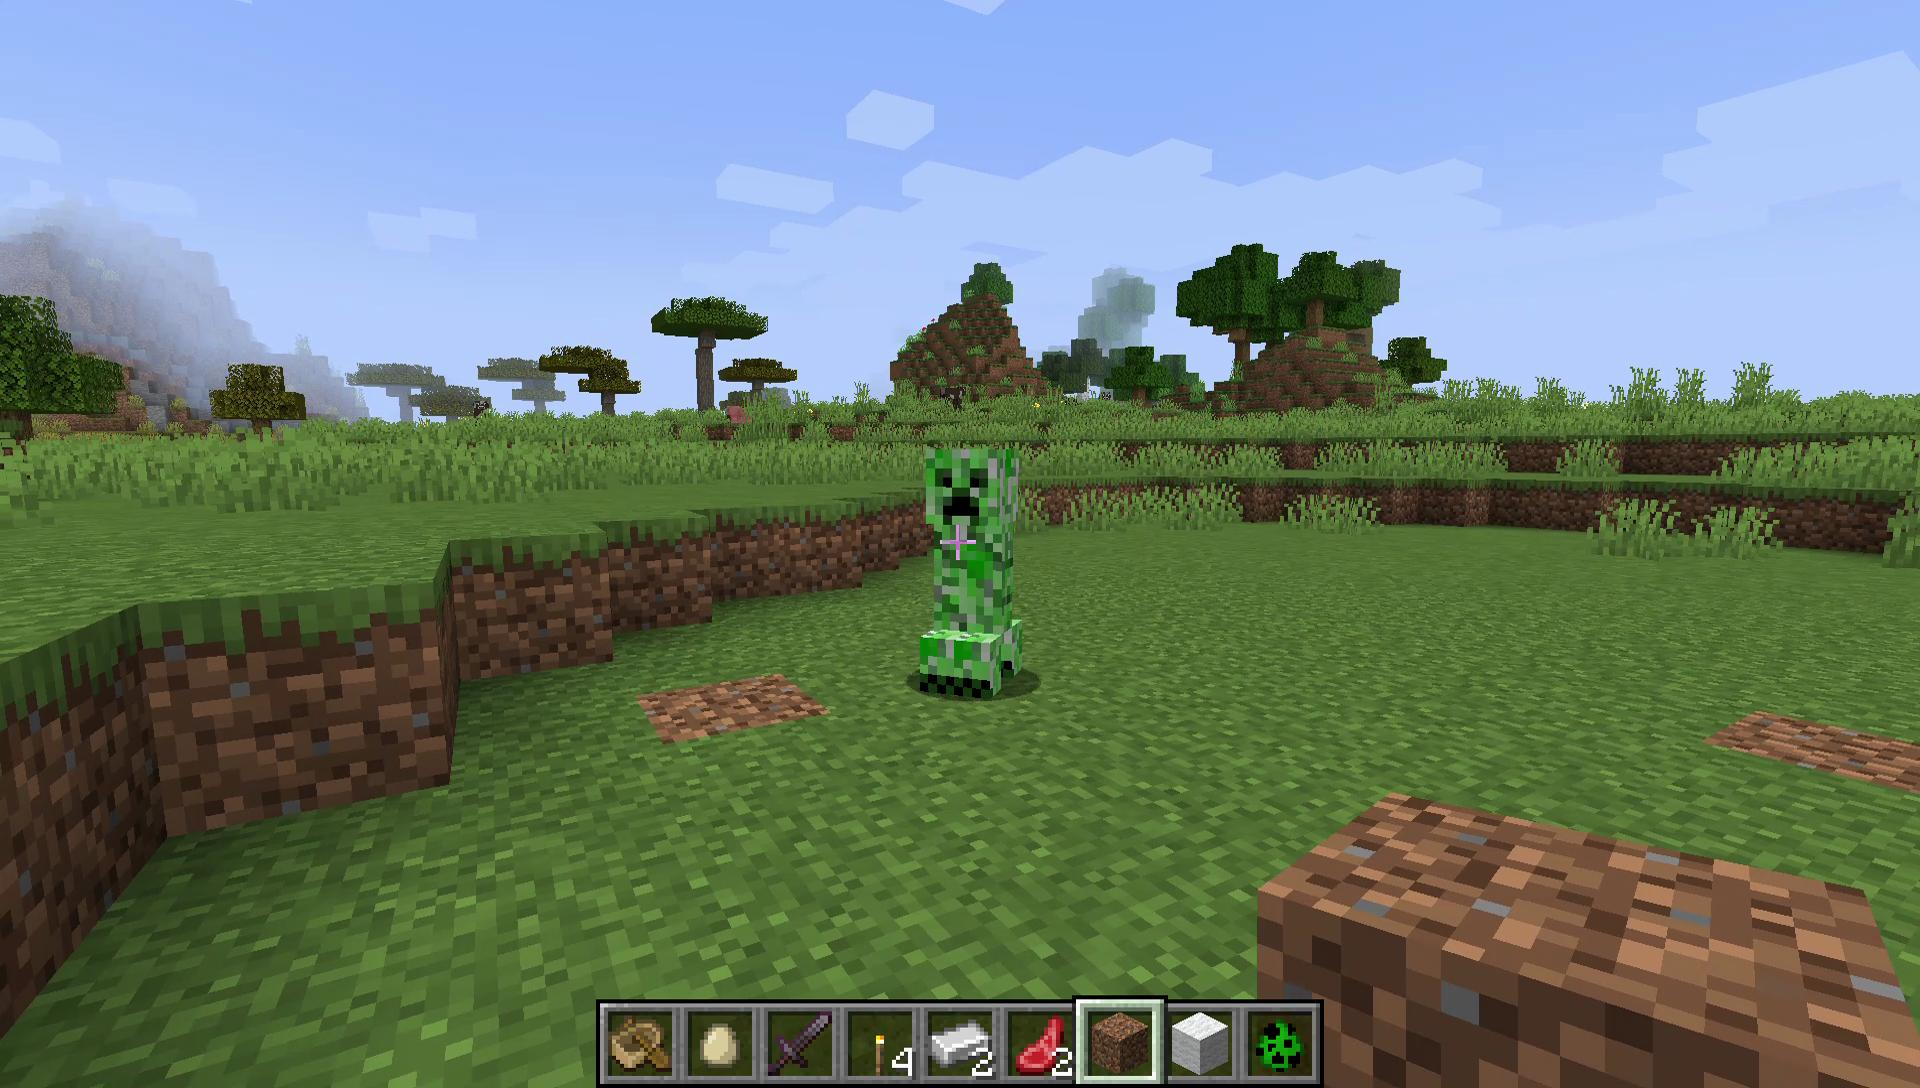creeper: (916, 438, 1027, 700)
